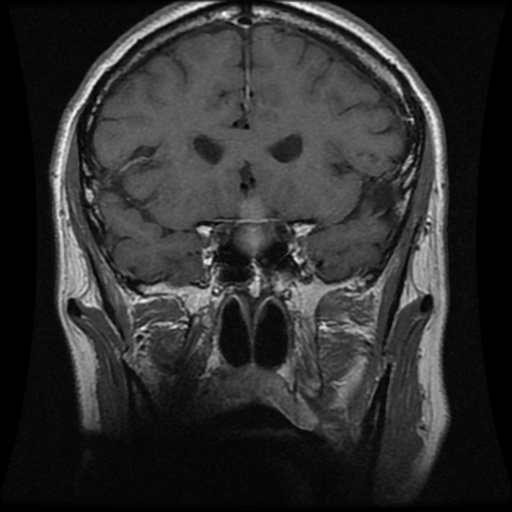pituitary: (234, 193, 275, 252)
